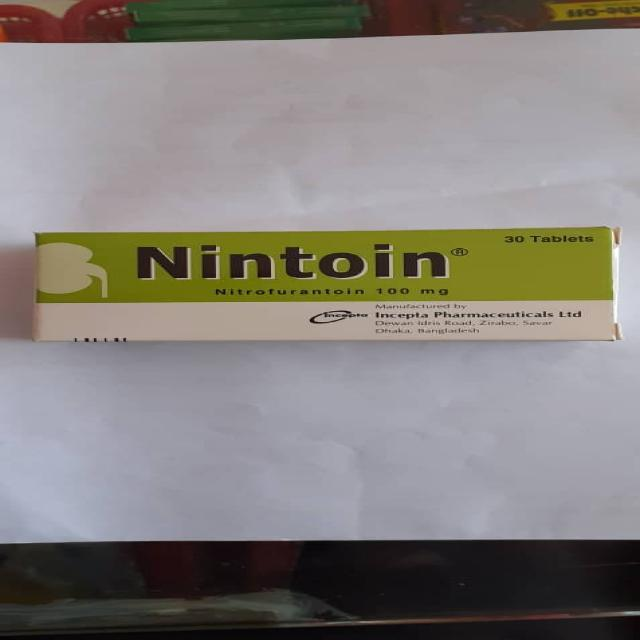drug-name: (134, 242, 450, 283)
